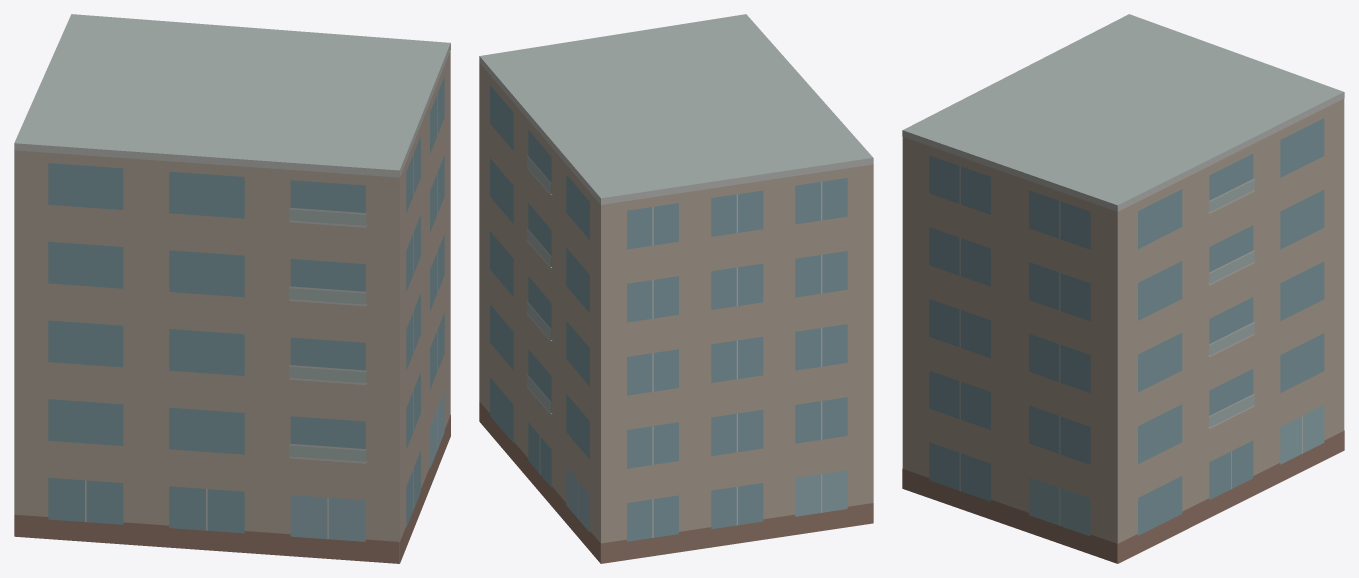
File: survey-upis-32954631.glb
3 renders of one model, left to right at view 1: azimuth 30°, elevation 25°; view 2: azimuth 150°, elevation 25°; view 3: azimuth 270°, elevation 25°, orthographic. The views are drawn at different scales.
Visible parts, largest first — view 1: survey-upis-32954631.tmp; view 2: survey-upis-32954631.tmp; view 3: survey-upis-32954631.tmp.
Part boxes in pixels (x1=…): survey-upis-32954631.tmp: x1=14, y1=14, x2=450, y2=563; survey-upis-32954631.tmp: x1=479, y1=14, x2=873, y2=563; survey-upis-32954631.tmp: x1=902, y1=14, x2=1344, y2=563.
Bounding box in the file's own units: 15.52 × 13.55 × 15.14.
